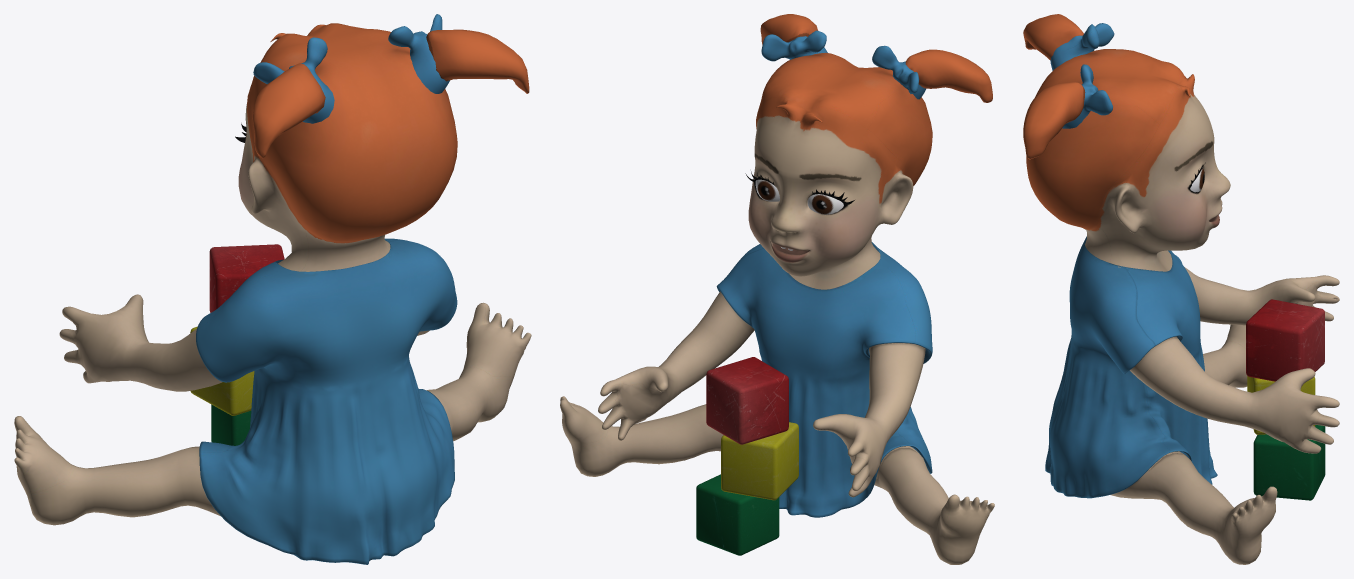
The model's file is Masha.FBX.
3 renders of one model, left to right at view 1: azimuth 30°, elevation 25°; view 2: azimuth 150°, elevation 25°; view 3: azimuth 270°, elevation 25°, orthographic. The views are drawn at different scales.
Visible parts, largest first — view 1: masha lp004, ChamferBox002; view 2: masha lp004, ChamferBox002; view 3: masha lp004, ChamferBox002.
Part boxes in pixels (x1,y1,x2,y2): masha lp004: [14, 14, 531, 564]; ChamferBox002: [190, 244, 284, 445]; masha lp004: [560, 14, 994, 564]; ChamferBox002: [696, 357, 798, 555]; masha lp004: [1023, 14, 1339, 564]; ChamferBox002: [1246, 299, 1325, 500].
Bounding box in the file's own units: 100 × 95.83 × 62.91.
